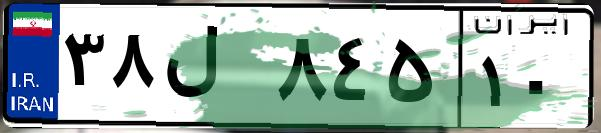0: (525, 38, 570, 115)
1: (475, 38, 525, 113)
3: (57, 26, 110, 100)
4: (330, 28, 385, 110)
5: (385, 28, 445, 110)
8: (270, 28, 330, 110), (110, 28, 158, 98)
ل: (158, 20, 270, 120)
